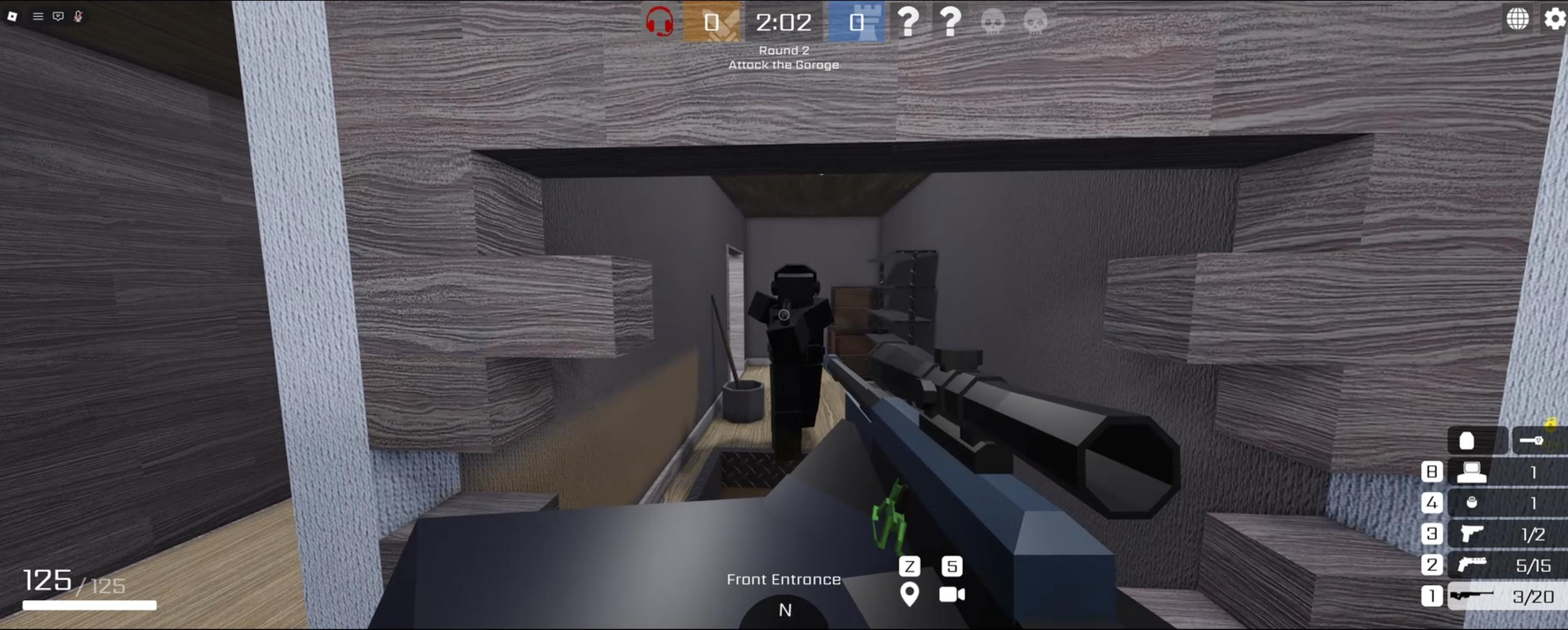enemy: (740, 261, 848, 466)
